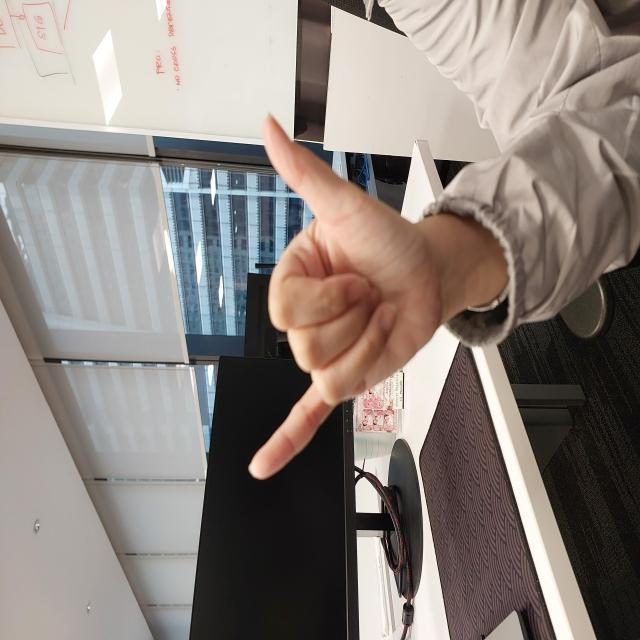Y: (159, 250, 526, 429)
